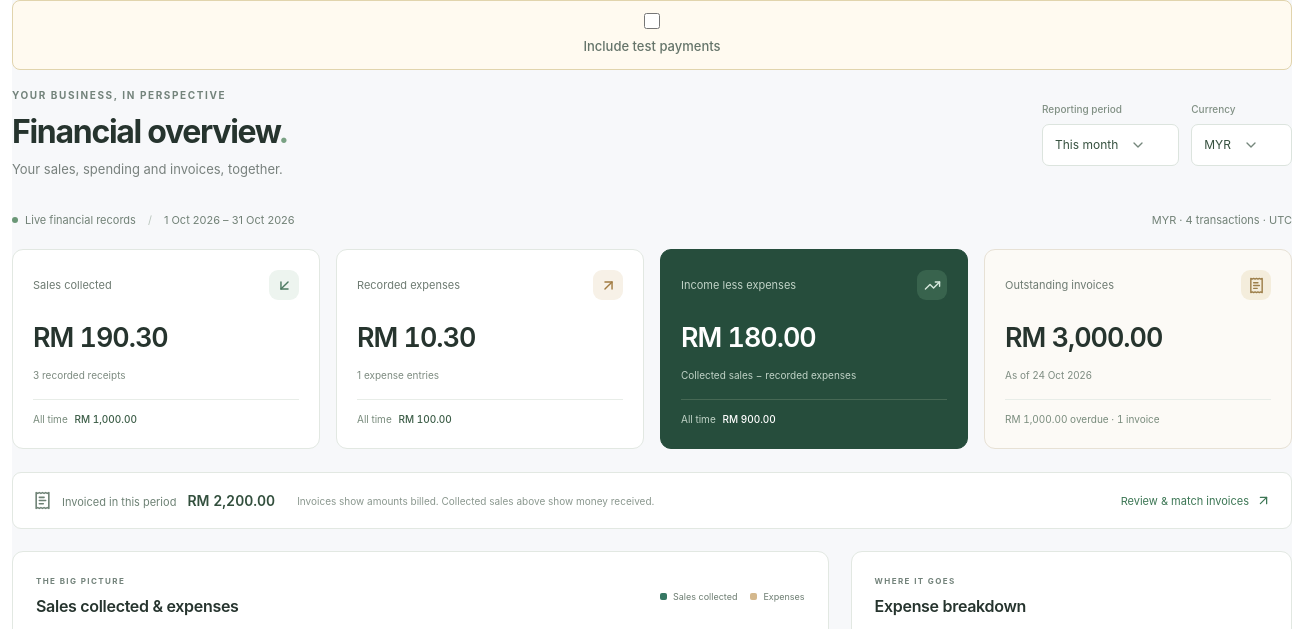
Test case: combines period and lifetime totals without adding invoiced amounts, and keeps outstanding as of today
This screenshot has width=1304, height=629.
expect the button "Sales collected" does not show "2,200.00": met
expect the button "Outstanding invoices" shows "3,000.00": met, box x1=984 y1=249 x2=1292 y2=449
Step 1. Click the button "Sales collected" → click(166, 349), box x1=12 y1=249 x2=320 y2=449
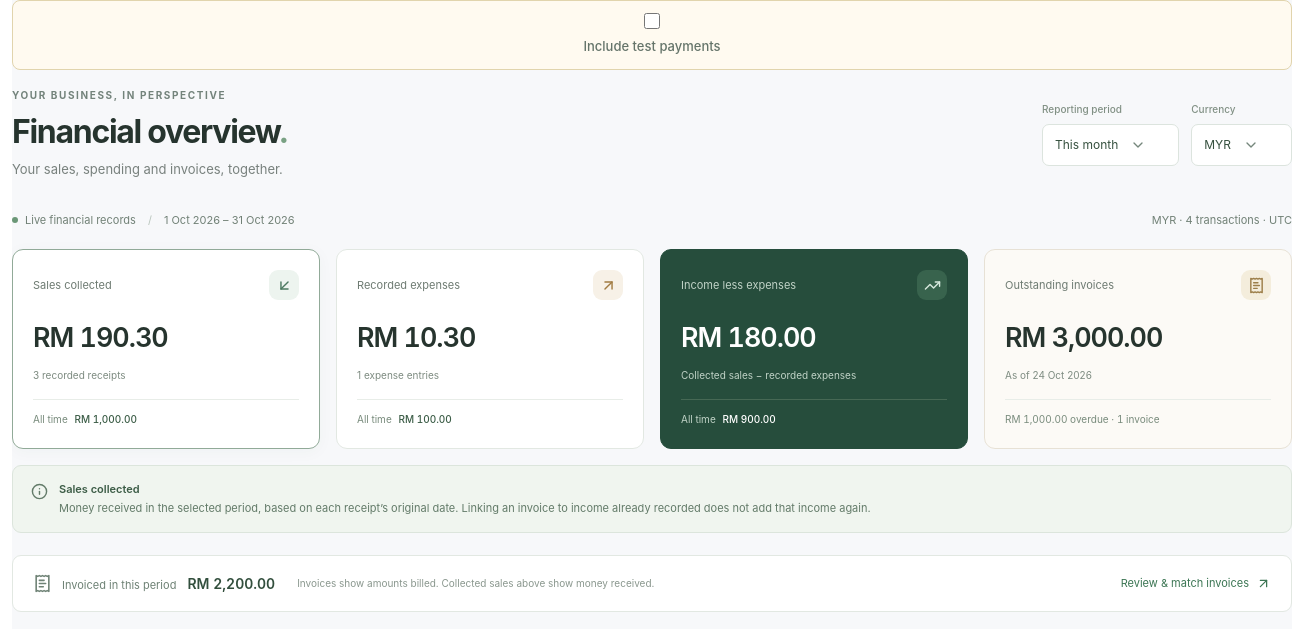
expect the element named "Sales collected explained" shows "does not add that income again": met, box x1=59 y1=501 x2=871 y2=515
